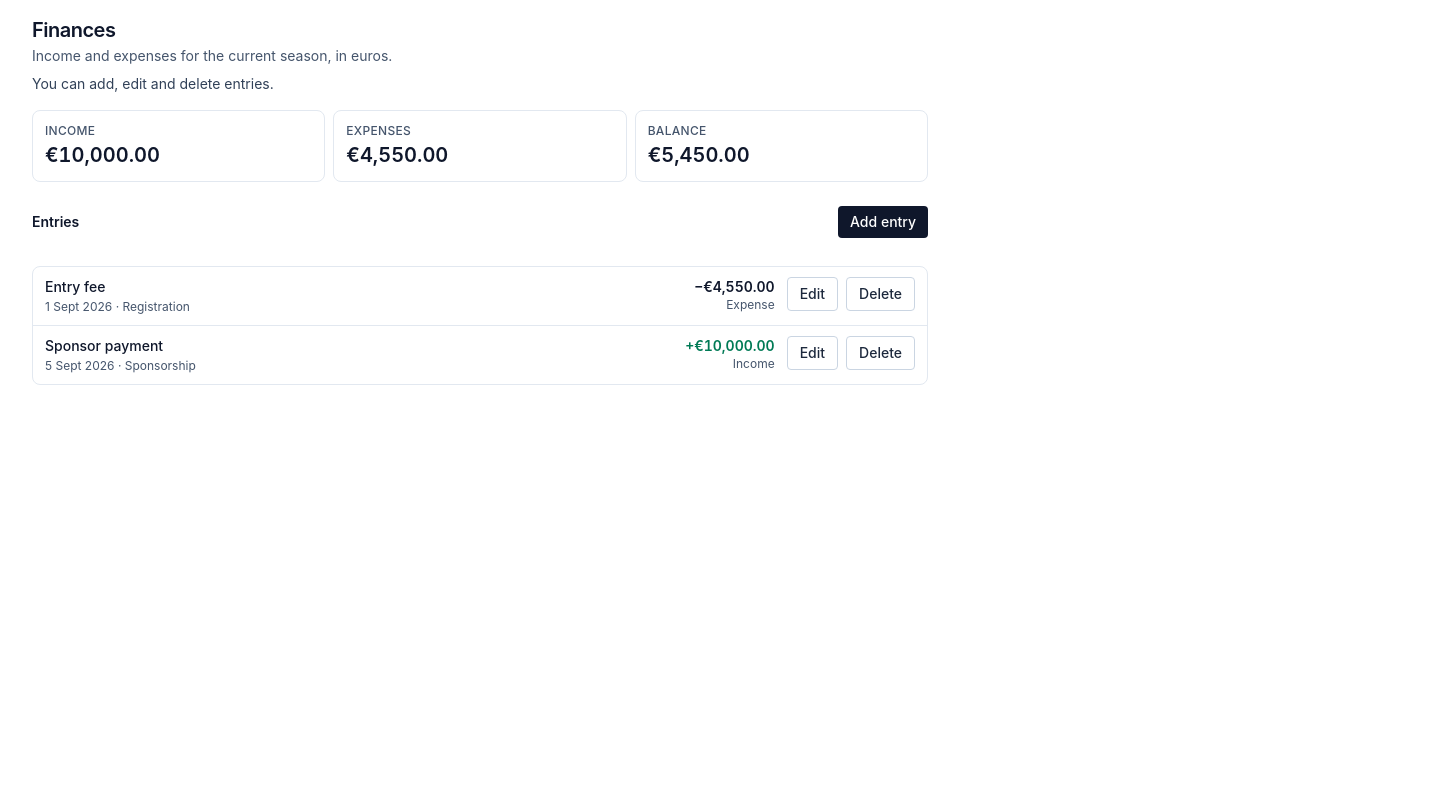
Test: the Developer › has full access: writes the ledger like the Treasurer
expect the text with test id "finance-access" shows "You can add, edit and delete entries": met, box [32,75,274,92]
Click the button "Add entry" at [883, 222], box [838,206,928,238]
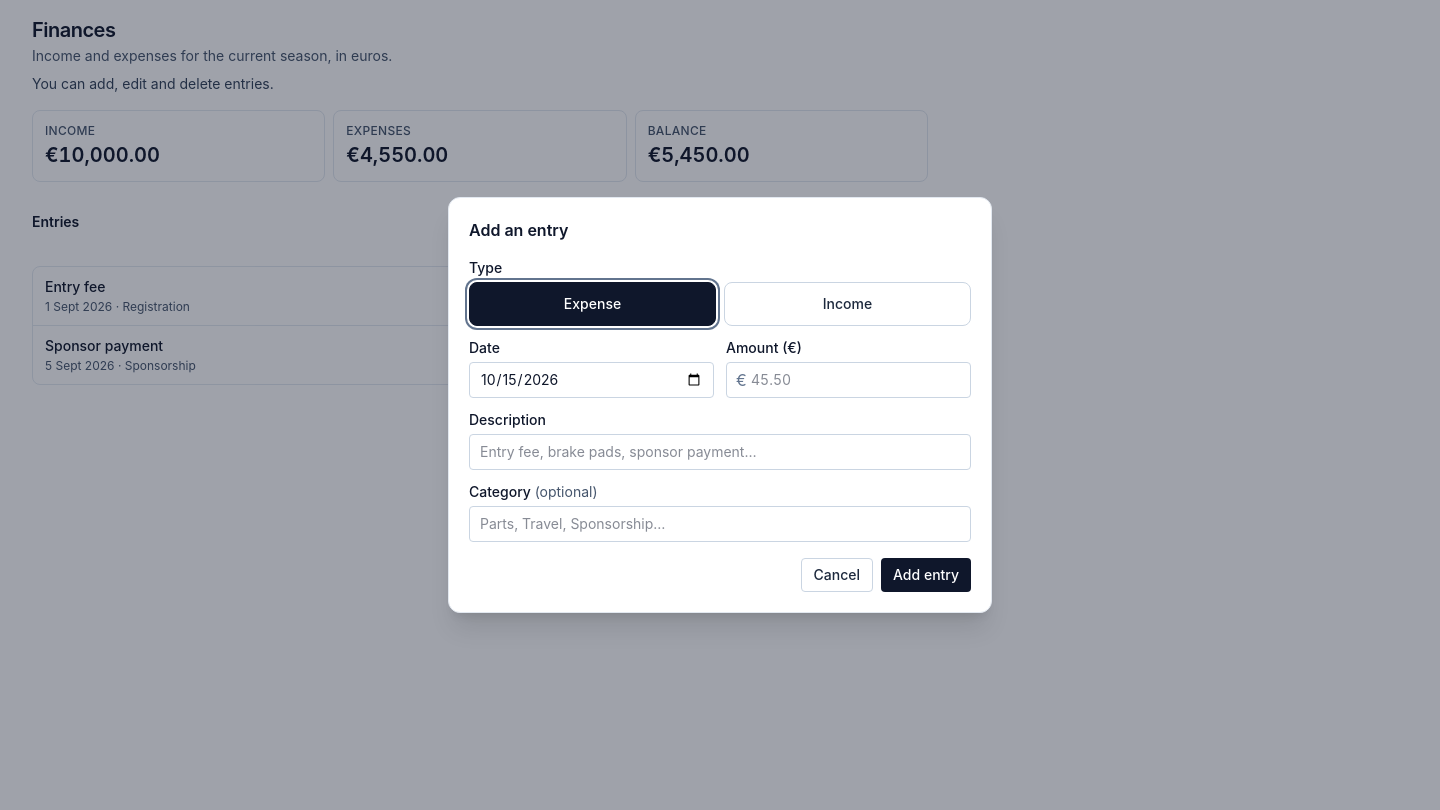
Type "Server bill" into the field labelled "Description" at [720, 452], box [469,434,971,470]
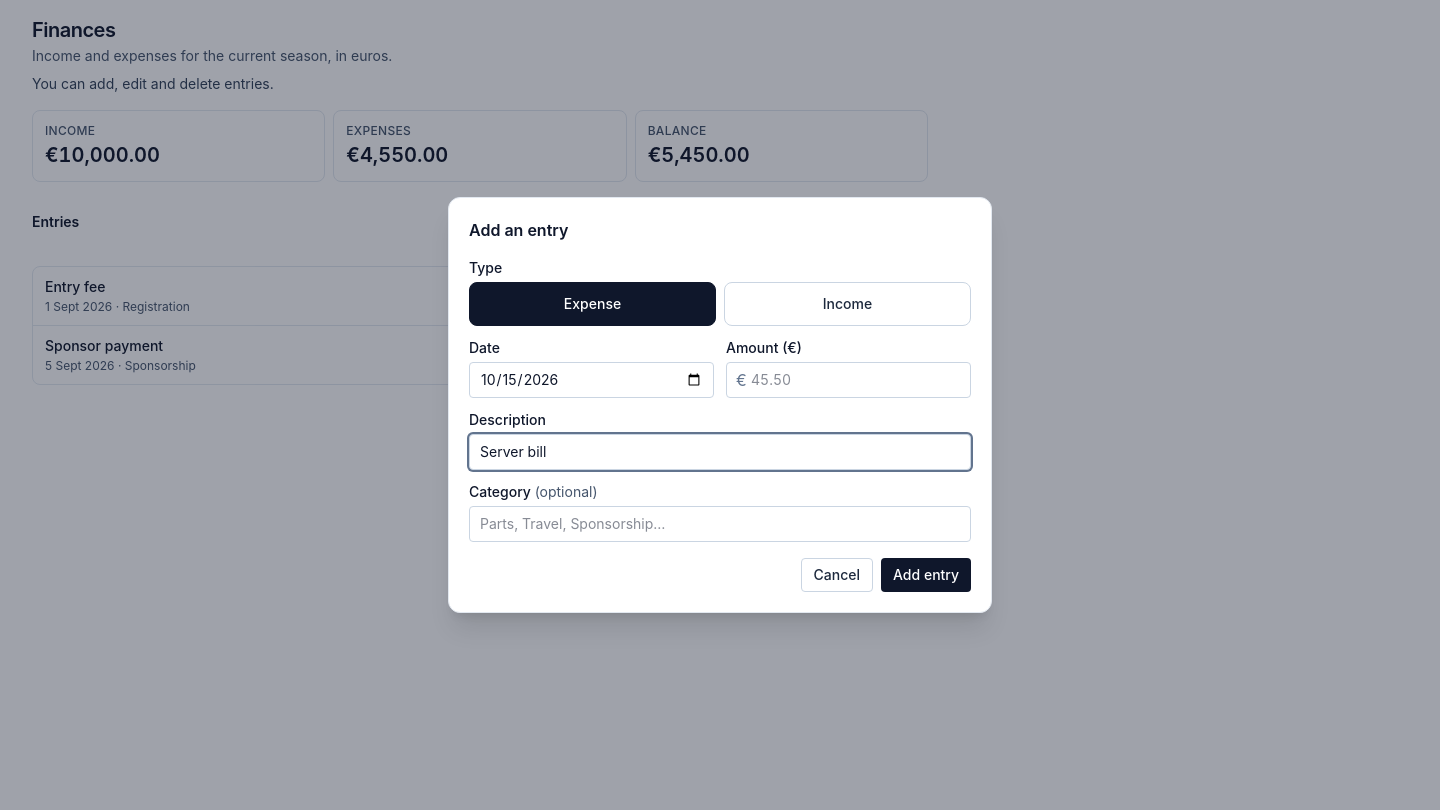
Type "12" into the field labelled "Amount (€)" at [848, 380], box [726,362,971,398]
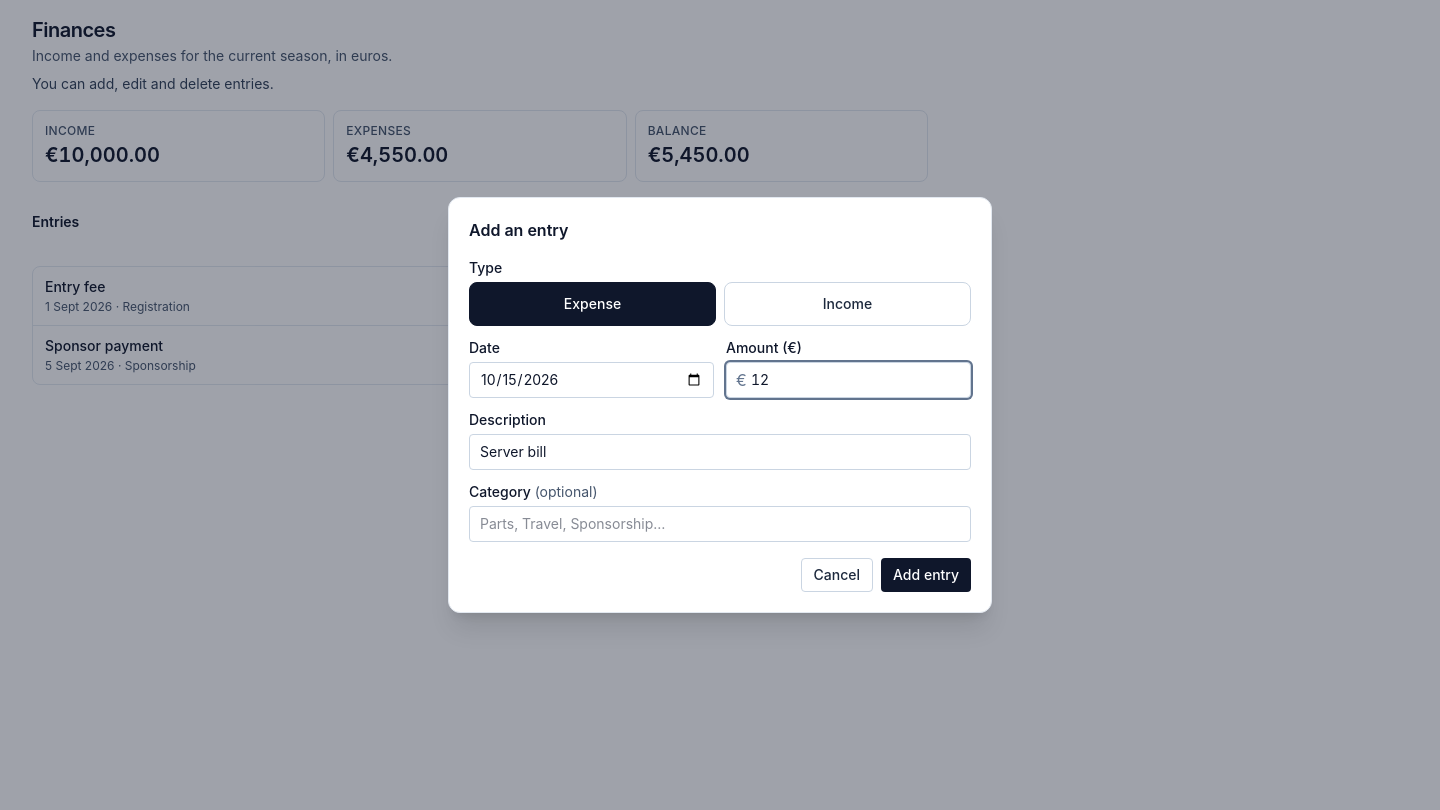
Click the button "Add entry" at [926, 575], box [881,558,971,592]
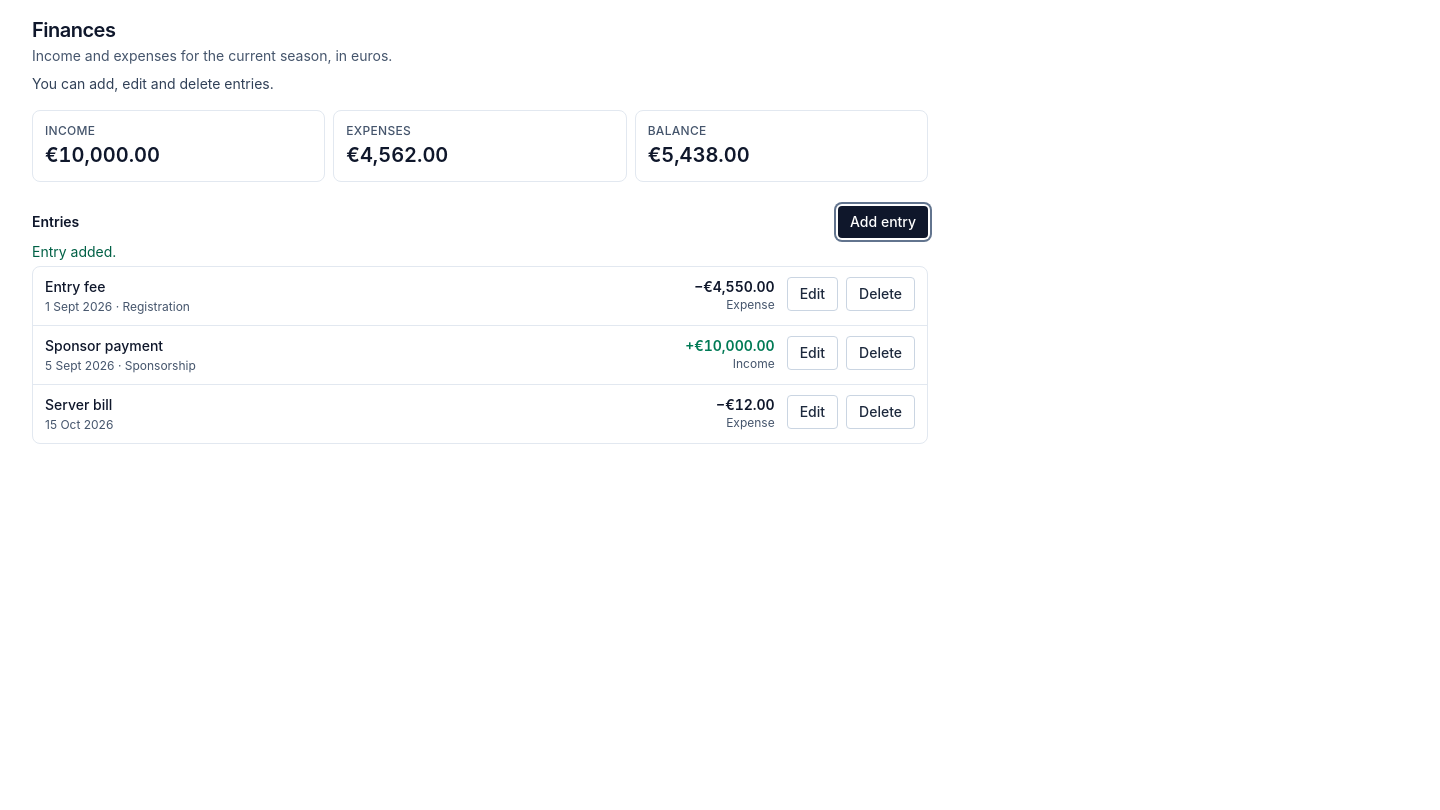
expect the button with aria-label "Edit Entry fee" is shown: met, box [787,277,838,311]
expect the text "Entry added." is shown: met, box [32,243,116,260]
